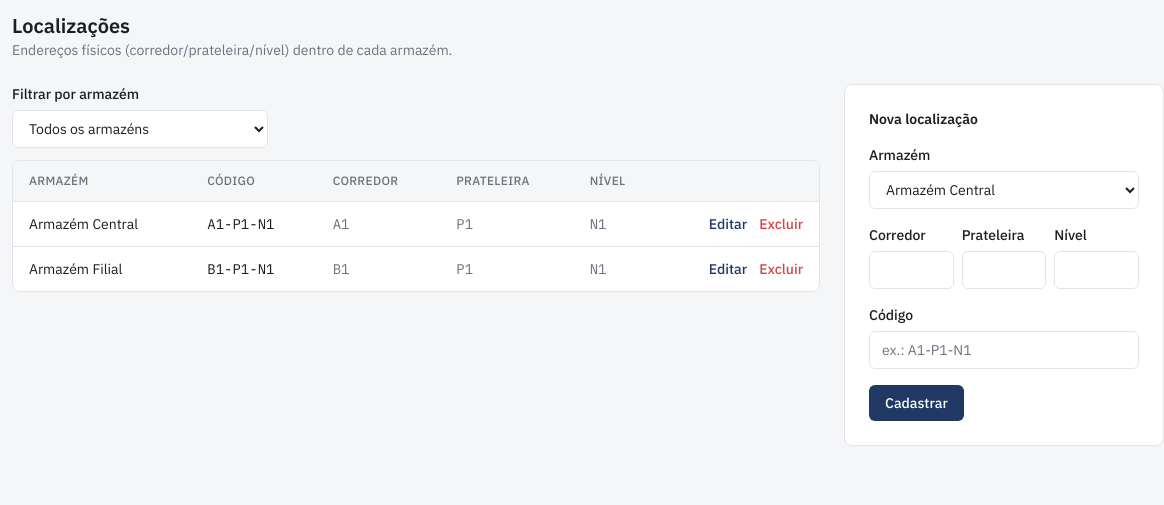
Test: LocalizacoesPage › ao editar, o select de Armazém do formulário fica travado
The image size is (1164, 505).
Expected: the text "A1-P1-N1" is shown, [191,202,317,246]
Click the button "Editar" in the row of "Armazém Central" at [728, 224], box [709,214,747,234]
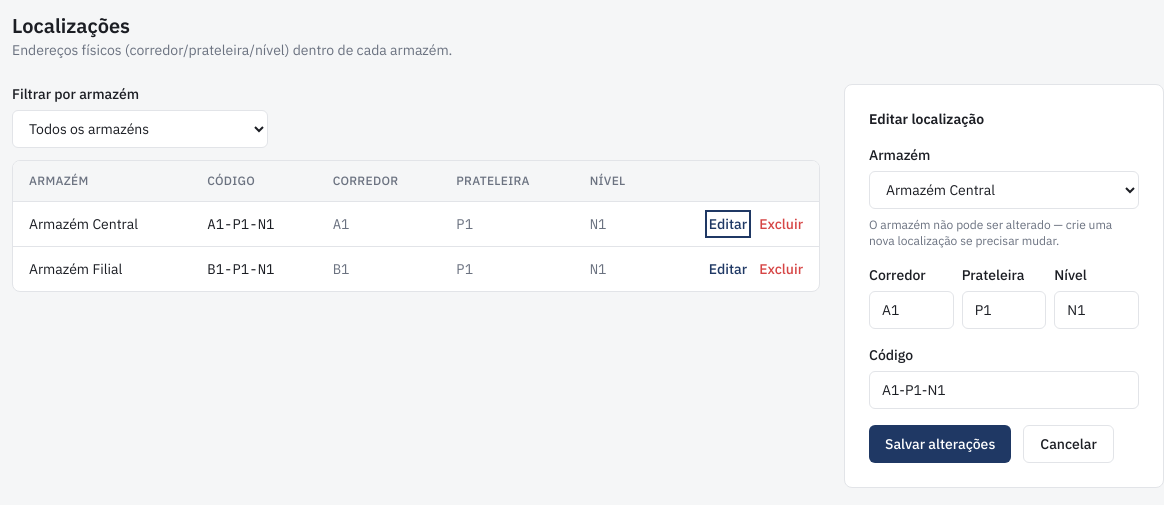
Now the text "O armazém não pode ser alterado — crie uma nova localização se precisar mudar." is shown, box [869,217,1139,249]
Now the heading "Editar localização" is shown, box [869,110,984,128]
